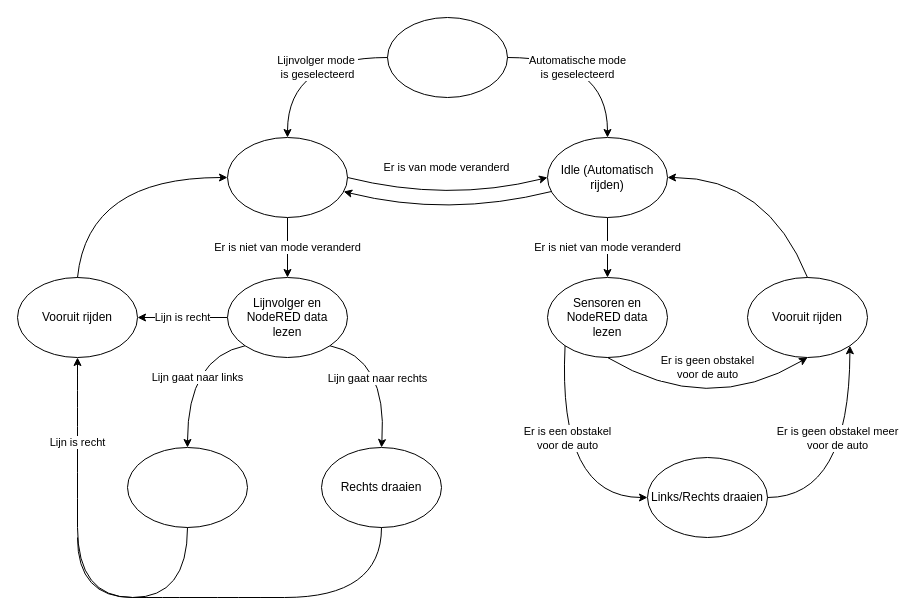
Some shapes in this 916 by 615 pixel diagram are drawn without their labels. The shapes that lost their labels are listed below. From the top down, each one's centre as x and y in pixels, then its label:
At point (447, 57): "Start".
At point (287, 177): "Idle (Lijnvolger)".
At point (187, 487): "Links draaien".
